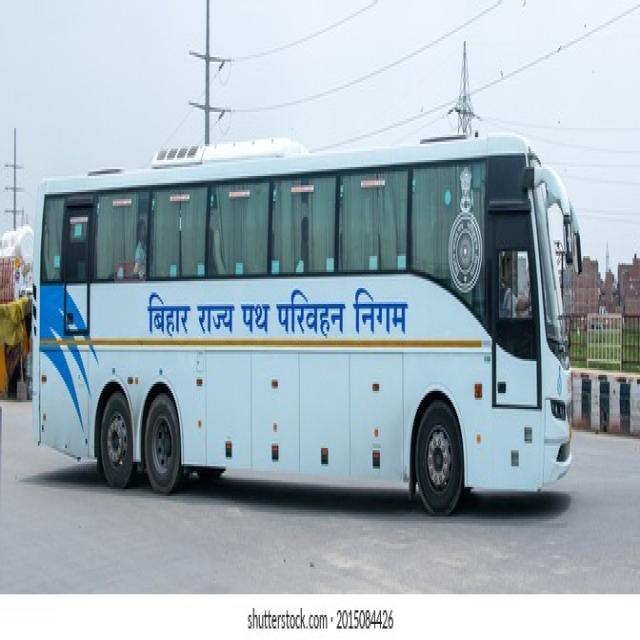bus: (32, 138, 580, 512)
